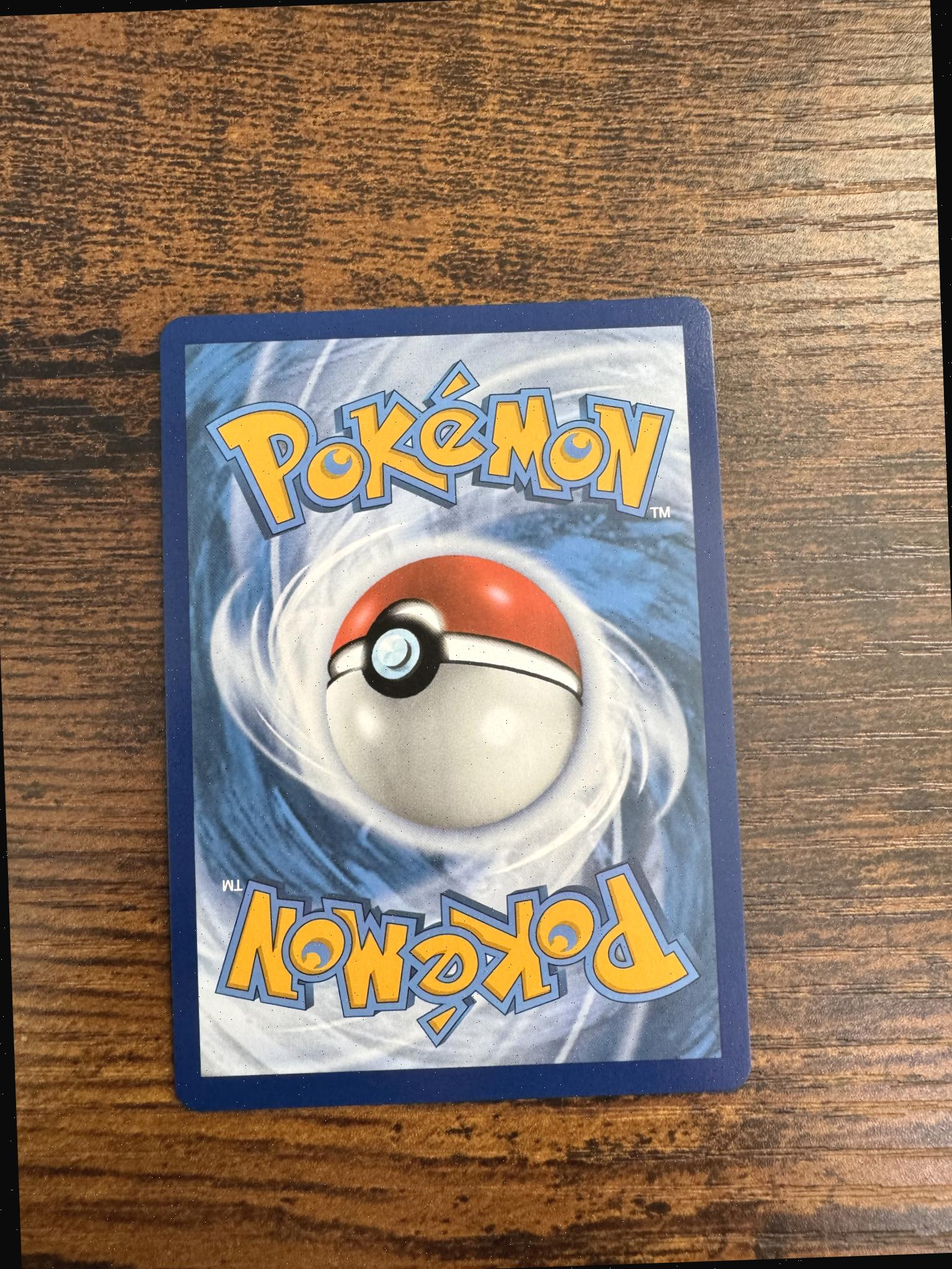card-2UtV: (160, 296, 752, 1111)
